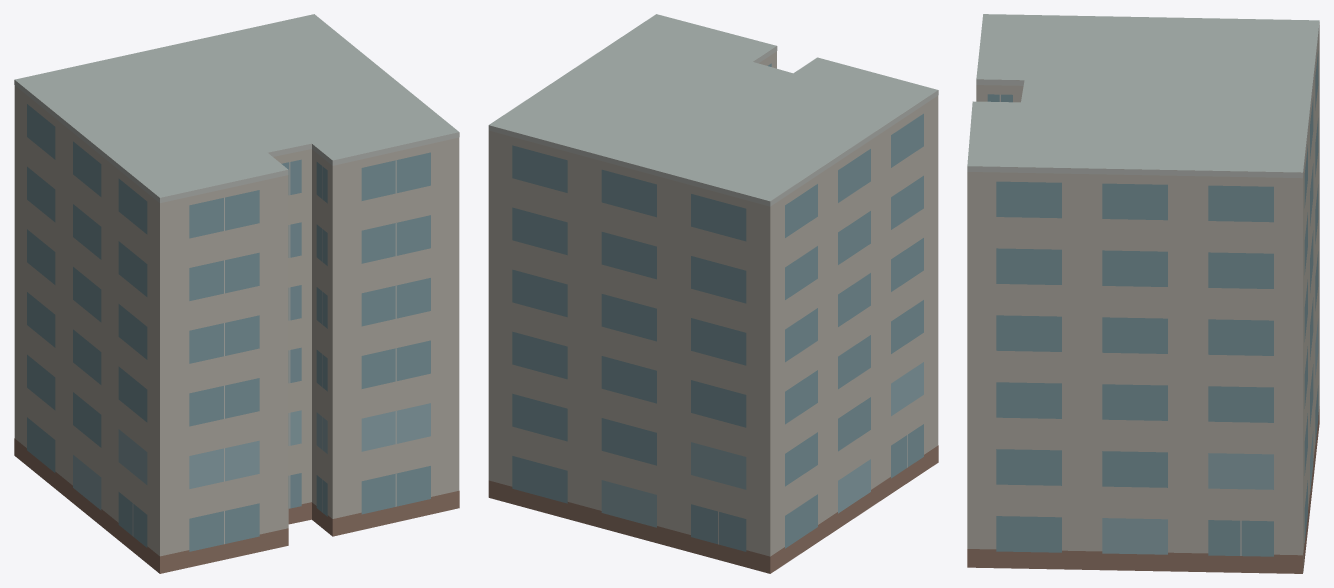
File: survey-upis-32652774.glb
3 renders of one model, left to right at view 1: azimuth 30°, elevation 25°; view 2: azimuth 150°, elevation 25°; view 3: azimuth 270°, elevation 25°, orthographic. The views are drawn at different scales.
Parts seen in each view (by area): view 1: survey-upis-32652774.tmp; view 2: survey-upis-32652774.tmp; view 3: survey-upis-32652774.tmp.
Part boxes in pixels (x1,y1,x2,y2): survey-upis-32652774.tmp: (14, 14, 459, 573); survey-upis-32652774.tmp: (488, 14, 938, 573); survey-upis-32652774.tmp: (967, 14, 1319, 573).
Size of the model in its own units: 14.57 by 17.2 by 13.69.
